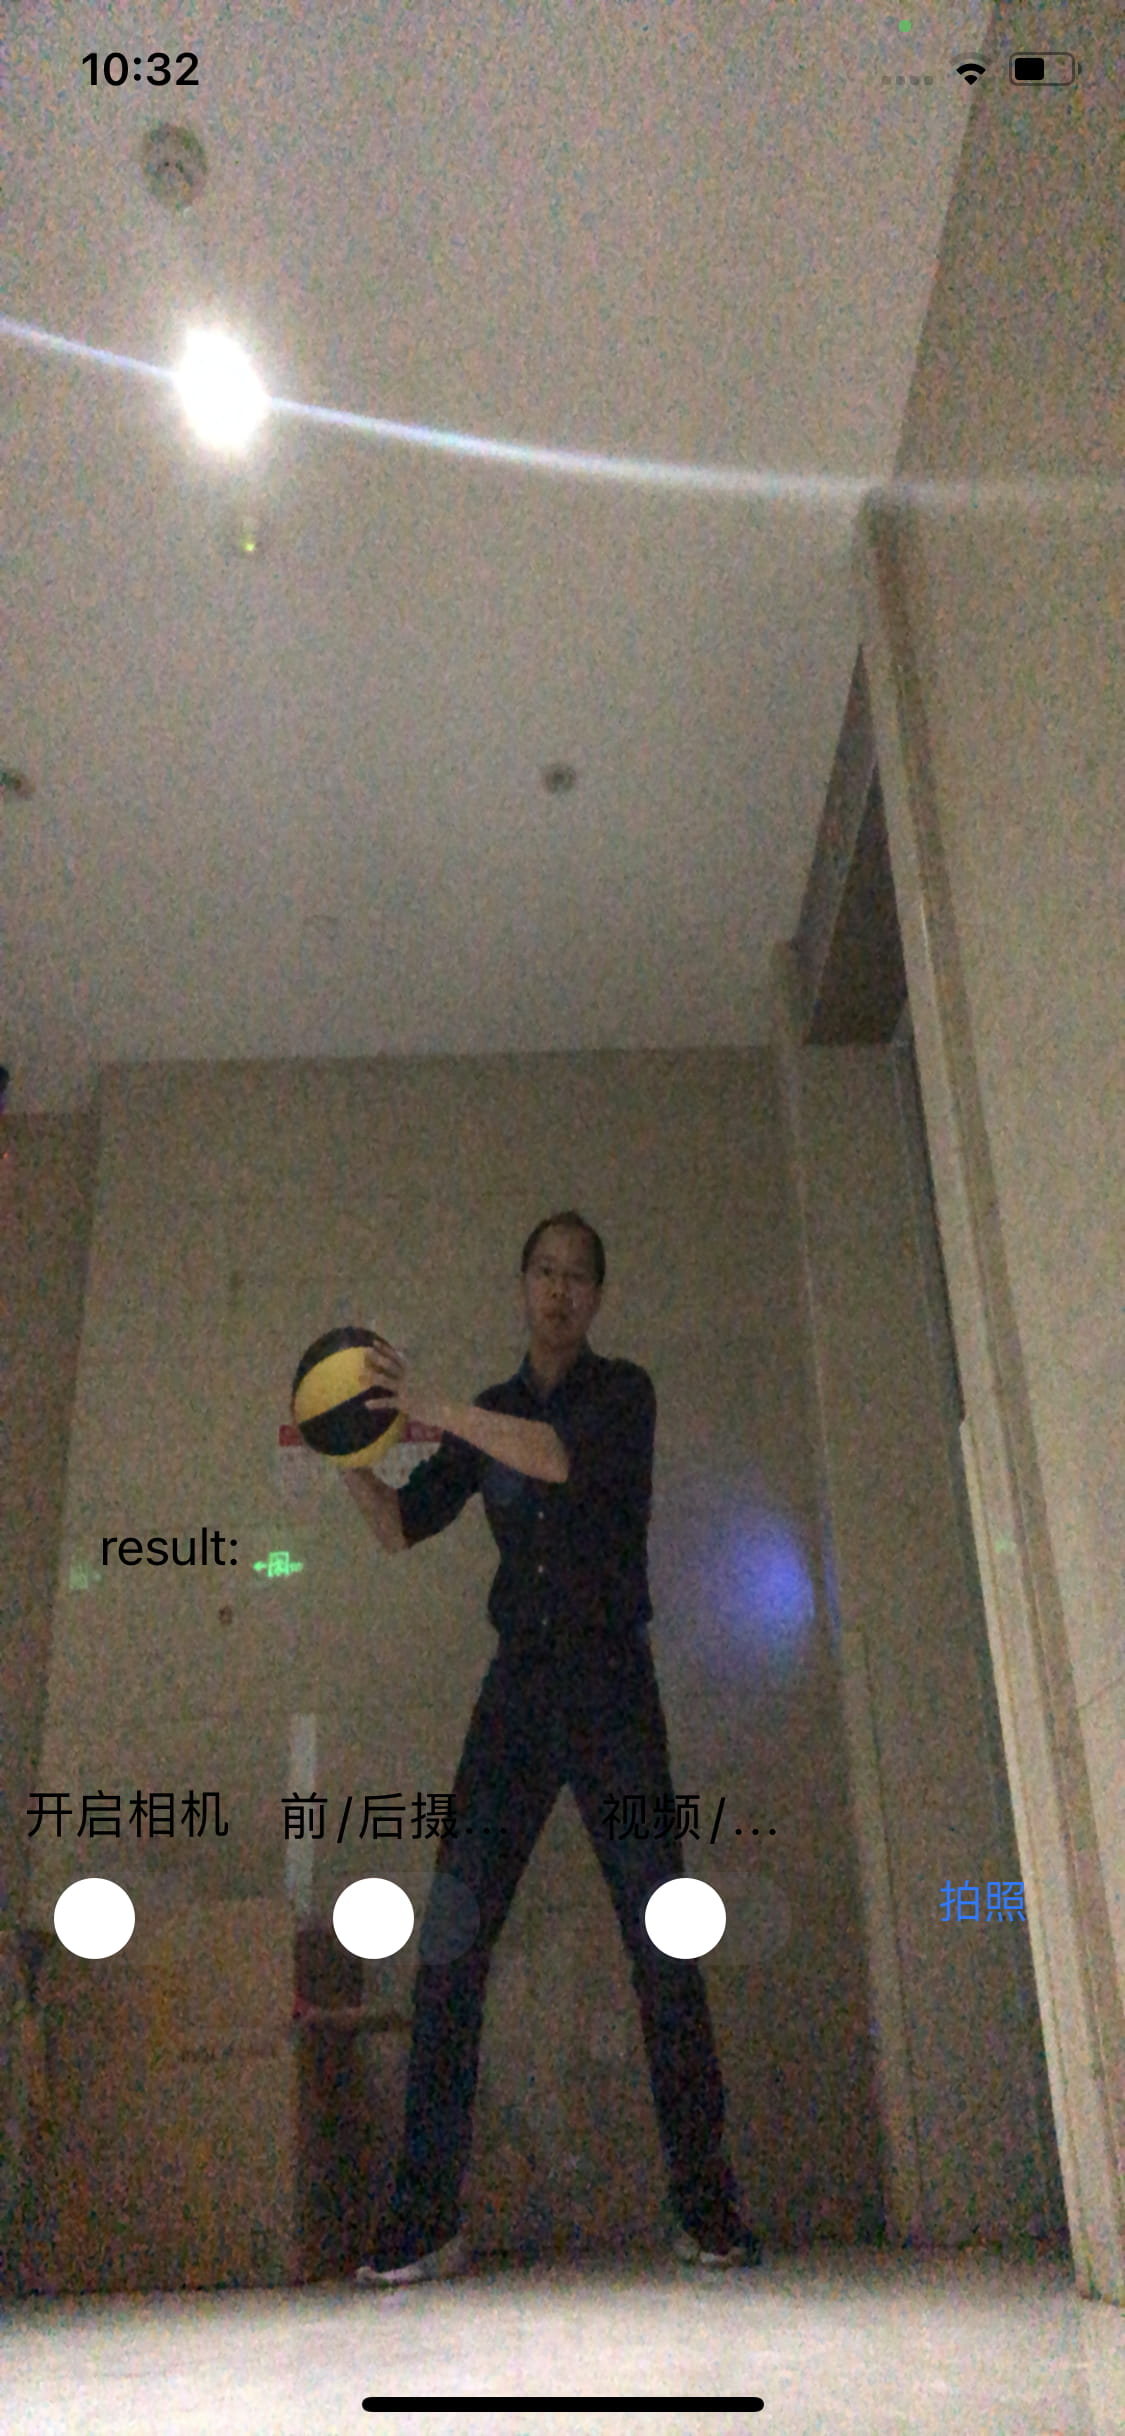ball: (291, 1325, 412, 1474)
